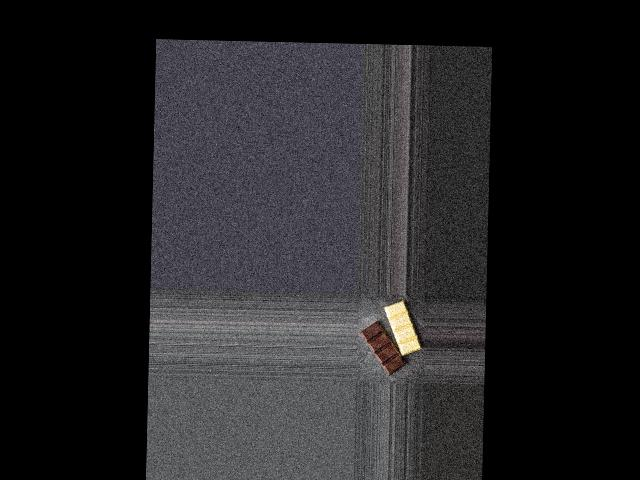chocolate: (360, 296, 422, 375)
